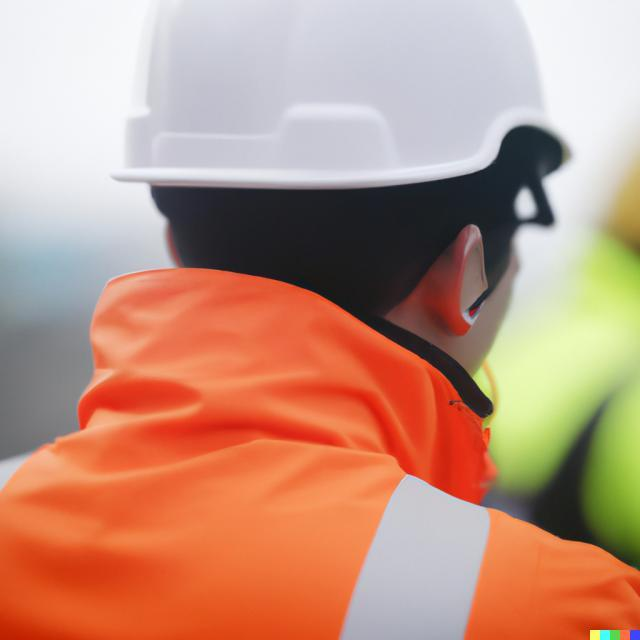reflective_jacket: (0, 267, 604, 639)
safety_helmet: (105, 10, 586, 200)
